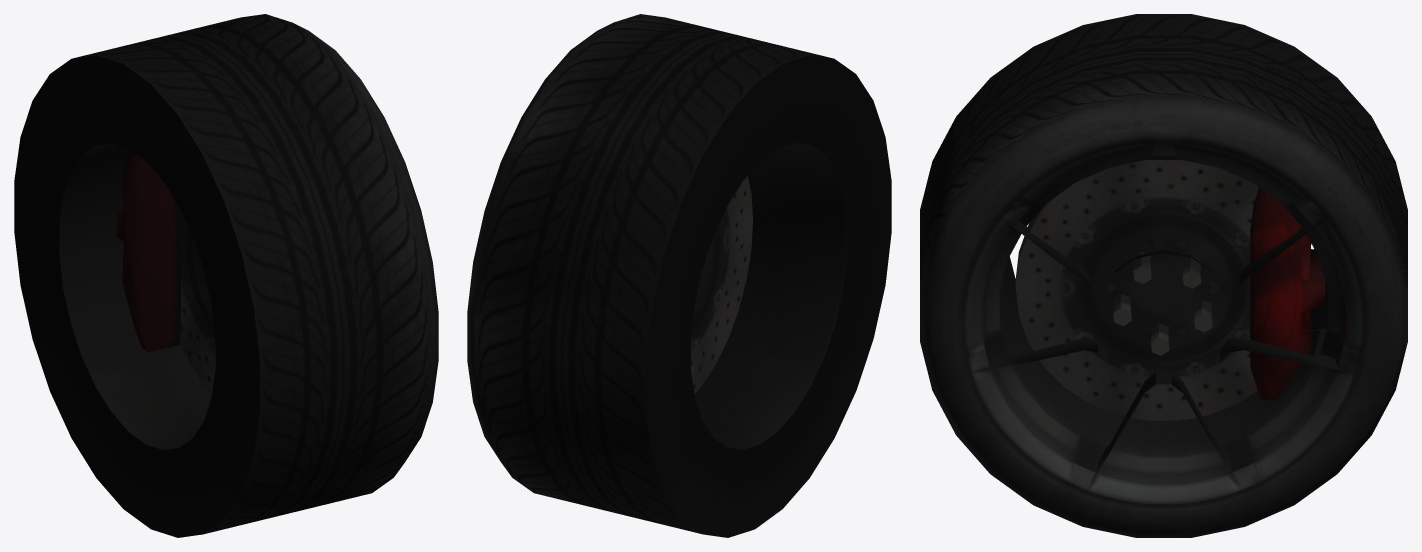
Rendered from WP25_wheelpack.glb.
3 views of the same model, side by side, from view 1: azimuth 30°, elevation 25°; view 2: azimuth 150°, elevation 25°; view 3: azimuth 270°, elevation 25° (orthographic).
Visible parts, largest first — view 1: MOD_ND_WP25_tyre, MOD_ND_WP25_rim, MOD_ND_WP25_brakes; view 2: MOD_ND_WP25_tyre, MOD_ND_WP25_rim, MOD_ND_WP25_brakes; view 3: MOD_ND_WP25_tyre, MOD_ND_WP25_brakes, MOD_ND_WP25_rim.
Boxes of the visible parts, x1,y1,x2,y2 form: MOD_ND_WP25_tyre: (14, 14, 438, 537); MOD_ND_WP25_rim: (59, 143, 211, 449); MOD_ND_WP25_brakes: (116, 151, 215, 394); MOD_ND_WP25_tyre: (467, 14, 891, 537); MOD_ND_WP25_rim: (694, 143, 847, 449); MOD_ND_WP25_brakes: (691, 176, 752, 393); MOD_ND_WP25_tyre: (920, 14, 1407, 537); MOD_ND_WP25_brakes: (1015, 160, 1325, 421); MOD_ND_WP25_rim: (965, 142, 1362, 503).
Size of the model in its own units: 0.2789 by 0.641 by 0.6414.
2 materials, 2 textured.
